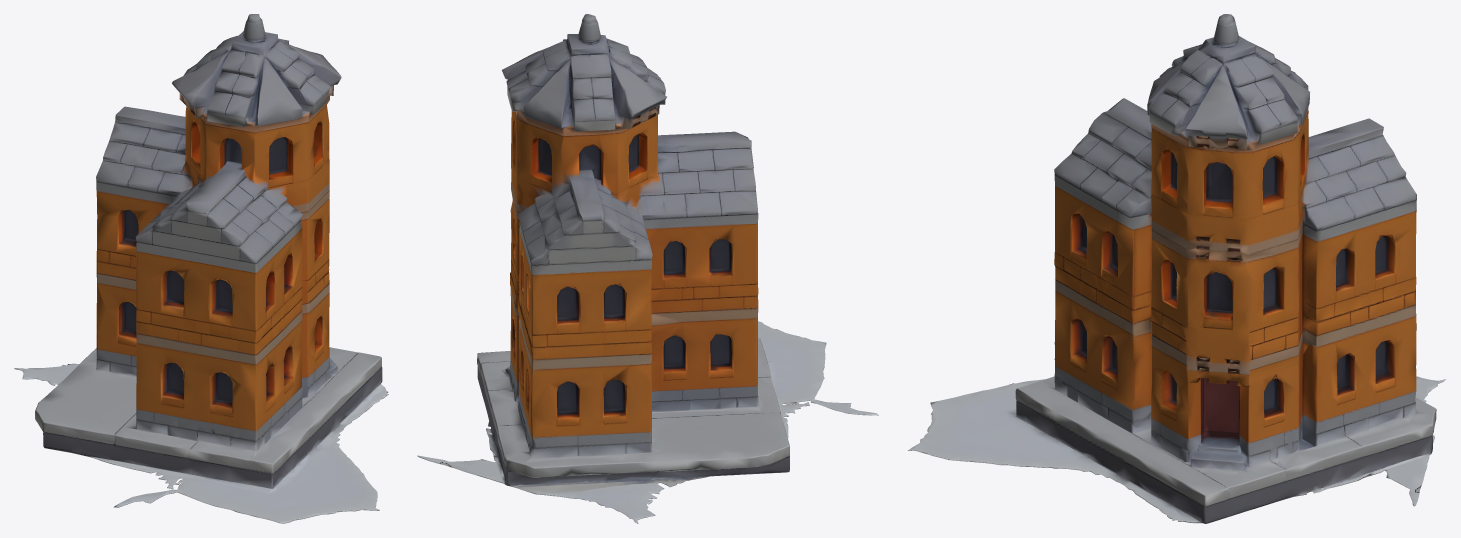
File: osaka.glb
3 views of the same model, side by side, from view 1: azimuth 30°, elevation 25°; view 2: azimuth 150°, elevation 25°; view 3: azimuth 270°, elevation 25° (orthographic). The views are drawn at different scales.
Parts seen in each view (by area): view 1: tripo_node_9558efdf-1cf3-4bd6-bce2-0a627ef1fe54; view 2: tripo_node_9558efdf-1cf3-4bd6-bce2-0a627ef1fe54; view 3: tripo_node_9558efdf-1cf3-4bd6-bce2-0a627ef1fe54.
Part boxes in pixels (x1,y1,x2,y2): tripo_node_9558efdf-1cf3-4bd6-bce2-0a627ef1fe54: (14,14,388,523); tripo_node_9558efdf-1cf3-4bd6-bce2-0a627ef1fe54: (417,14,878,523); tripo_node_9558efdf-1cf3-4bd6-bce2-0a627ef1fe54: (908,14,1446,523).
Size of the model in its own units: 0.8128 by 0.9182 by 1.01.
Materials: 1 (1 with a texture image).
